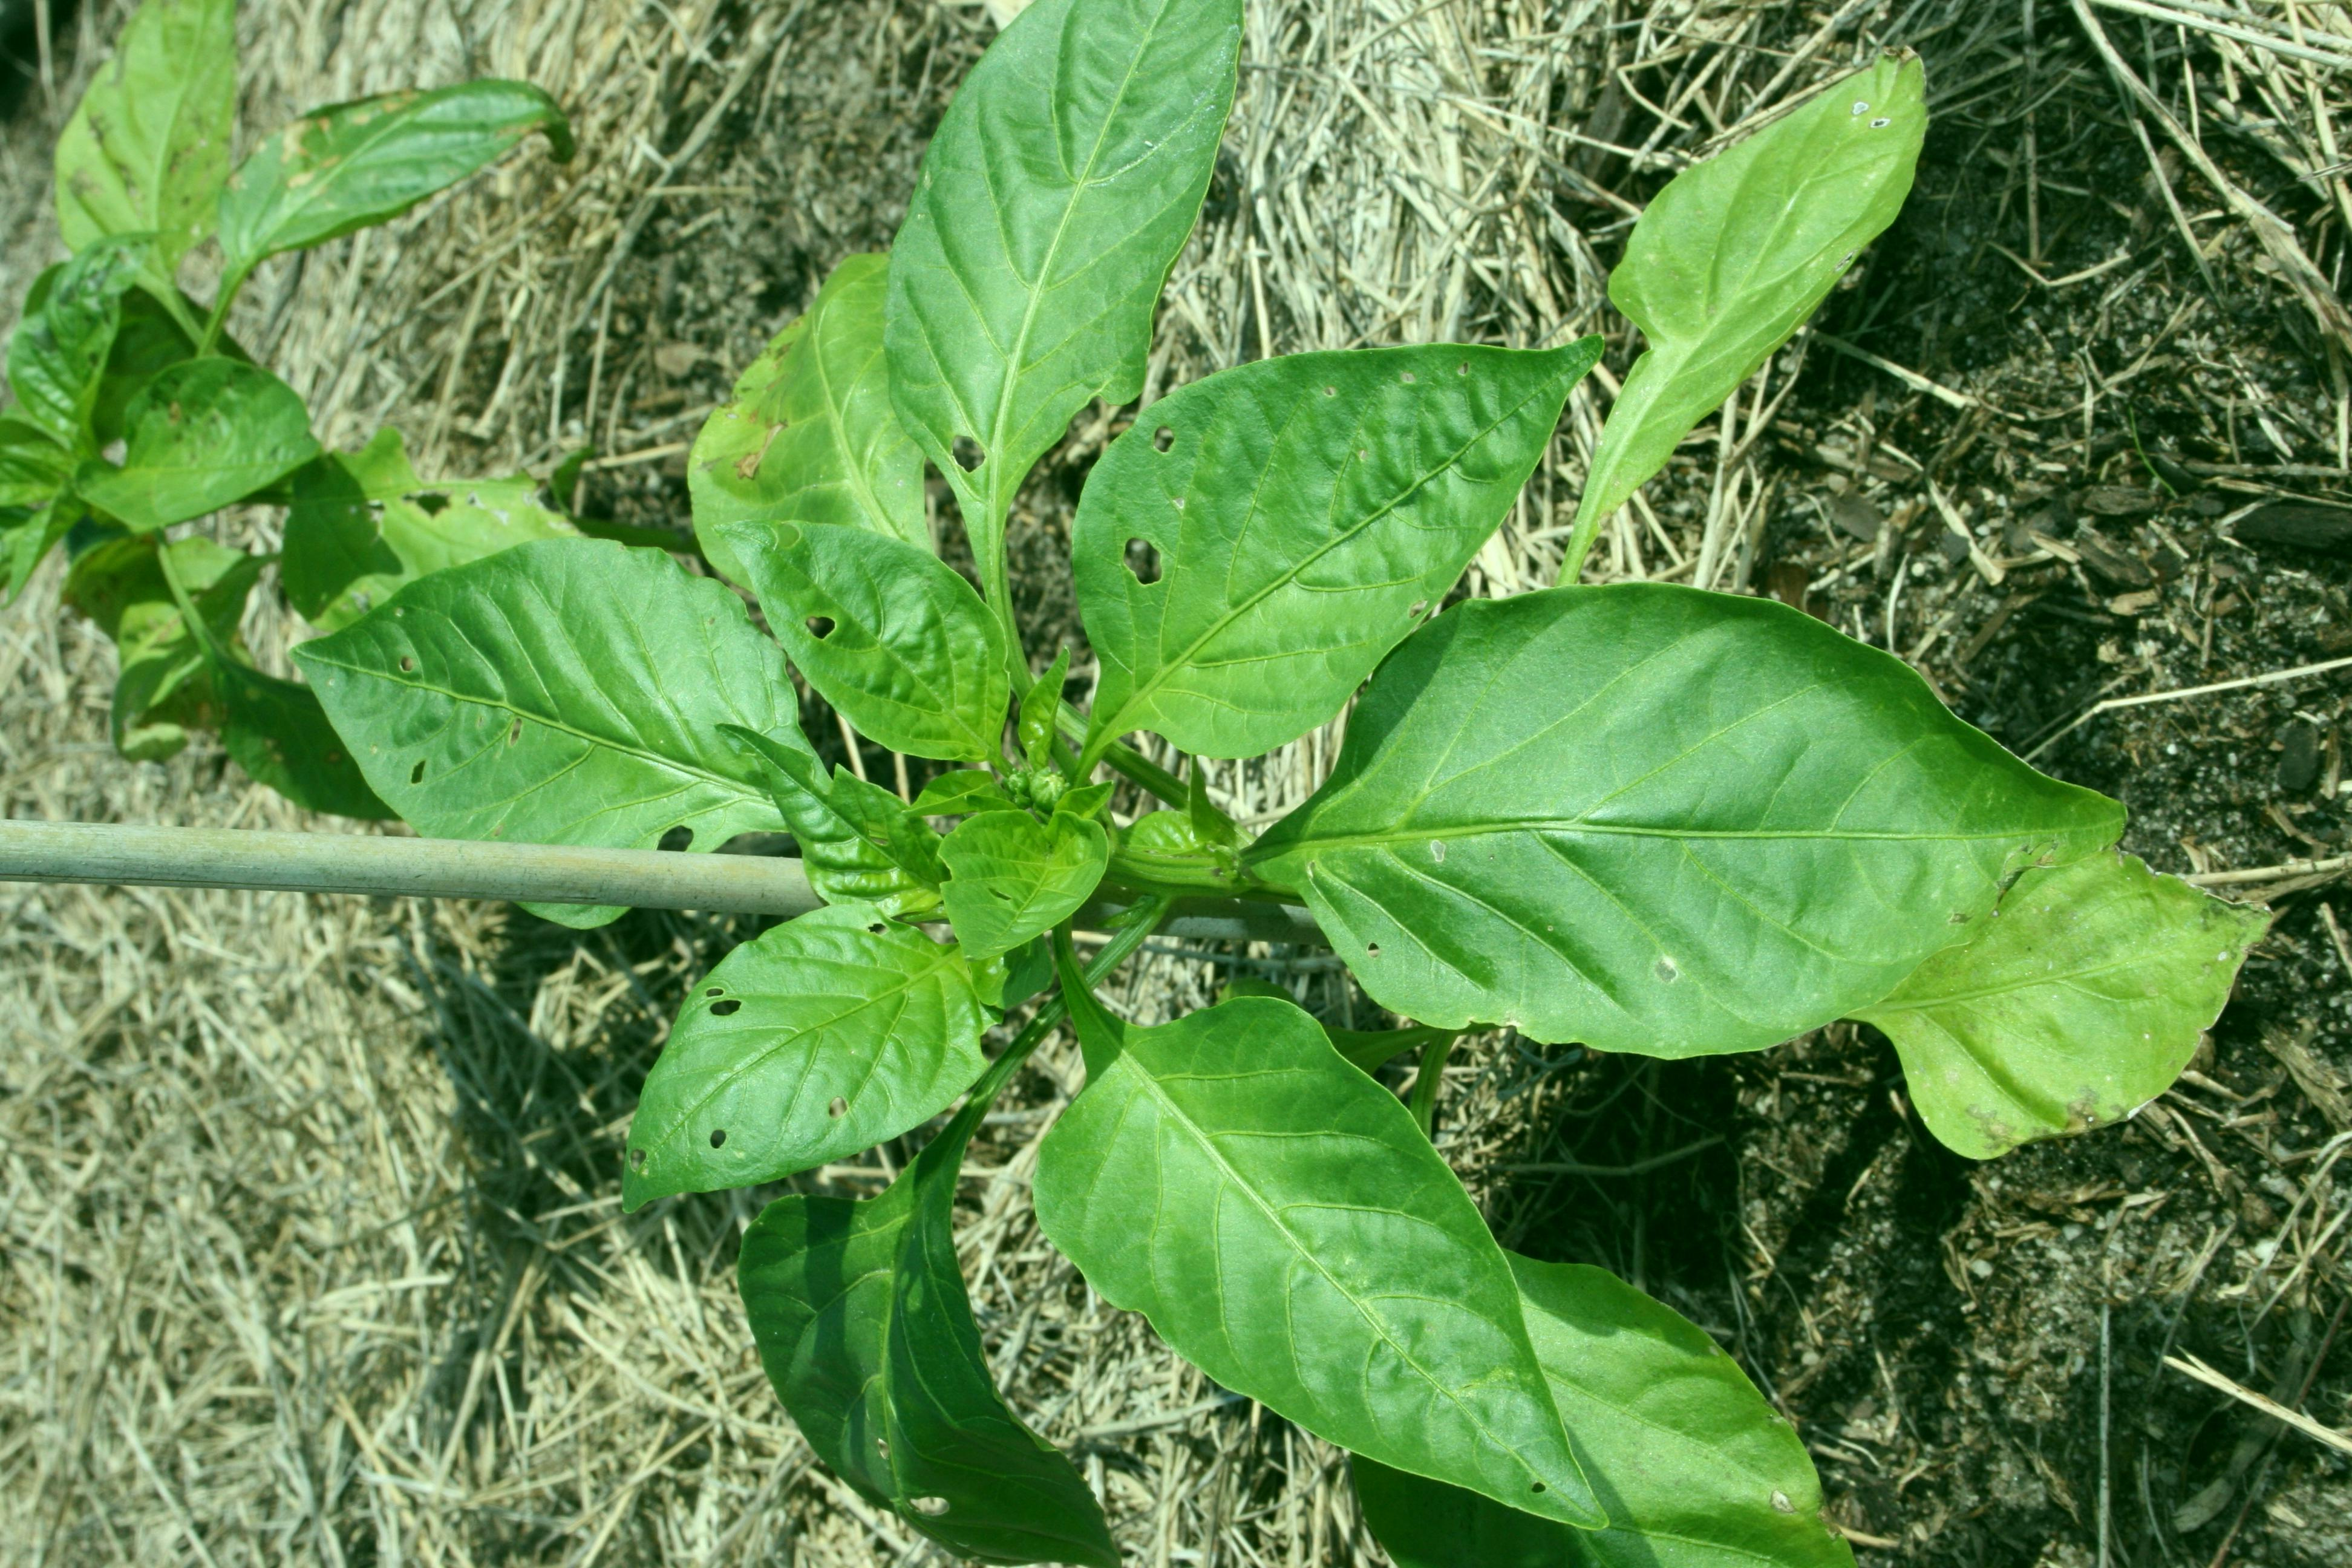Tomato leaf: (1292, 593, 2080, 1037), (1035, 968, 1602, 1553), (1052, 242, 1622, 758), (882, 3, 1259, 579), (1536, 26, 1925, 567), (286, 510, 831, 873), (566, 919, 1001, 1204)
